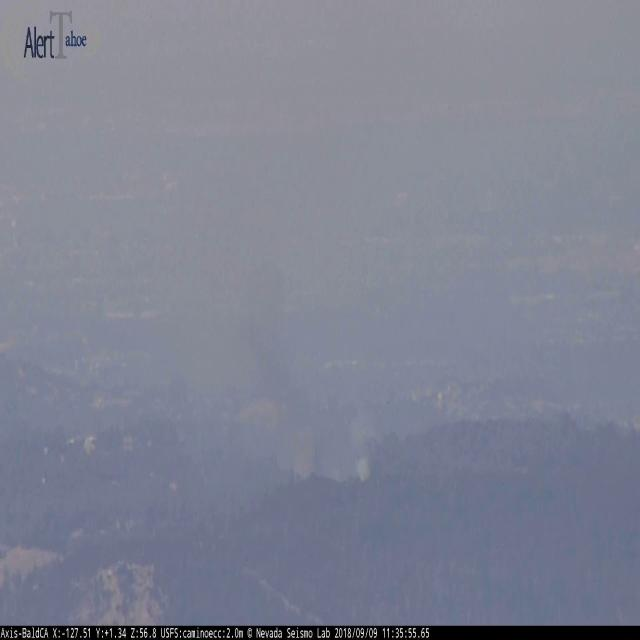smoke: (231, 297, 375, 483)
